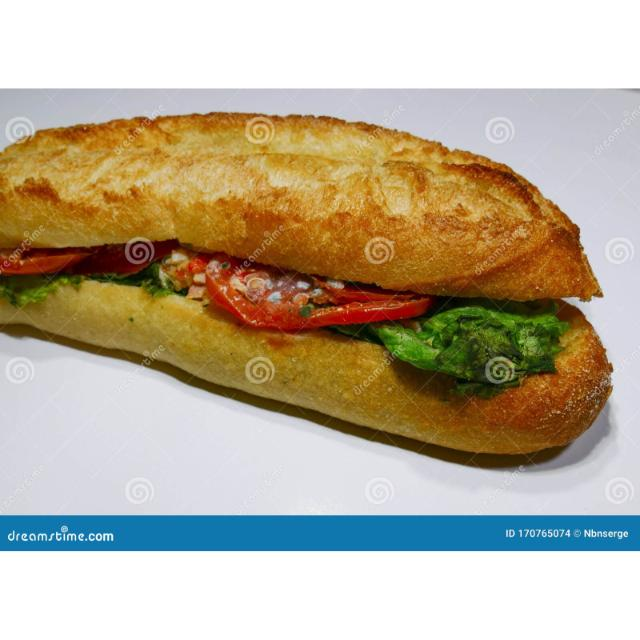organic: (0, 112, 614, 467)
